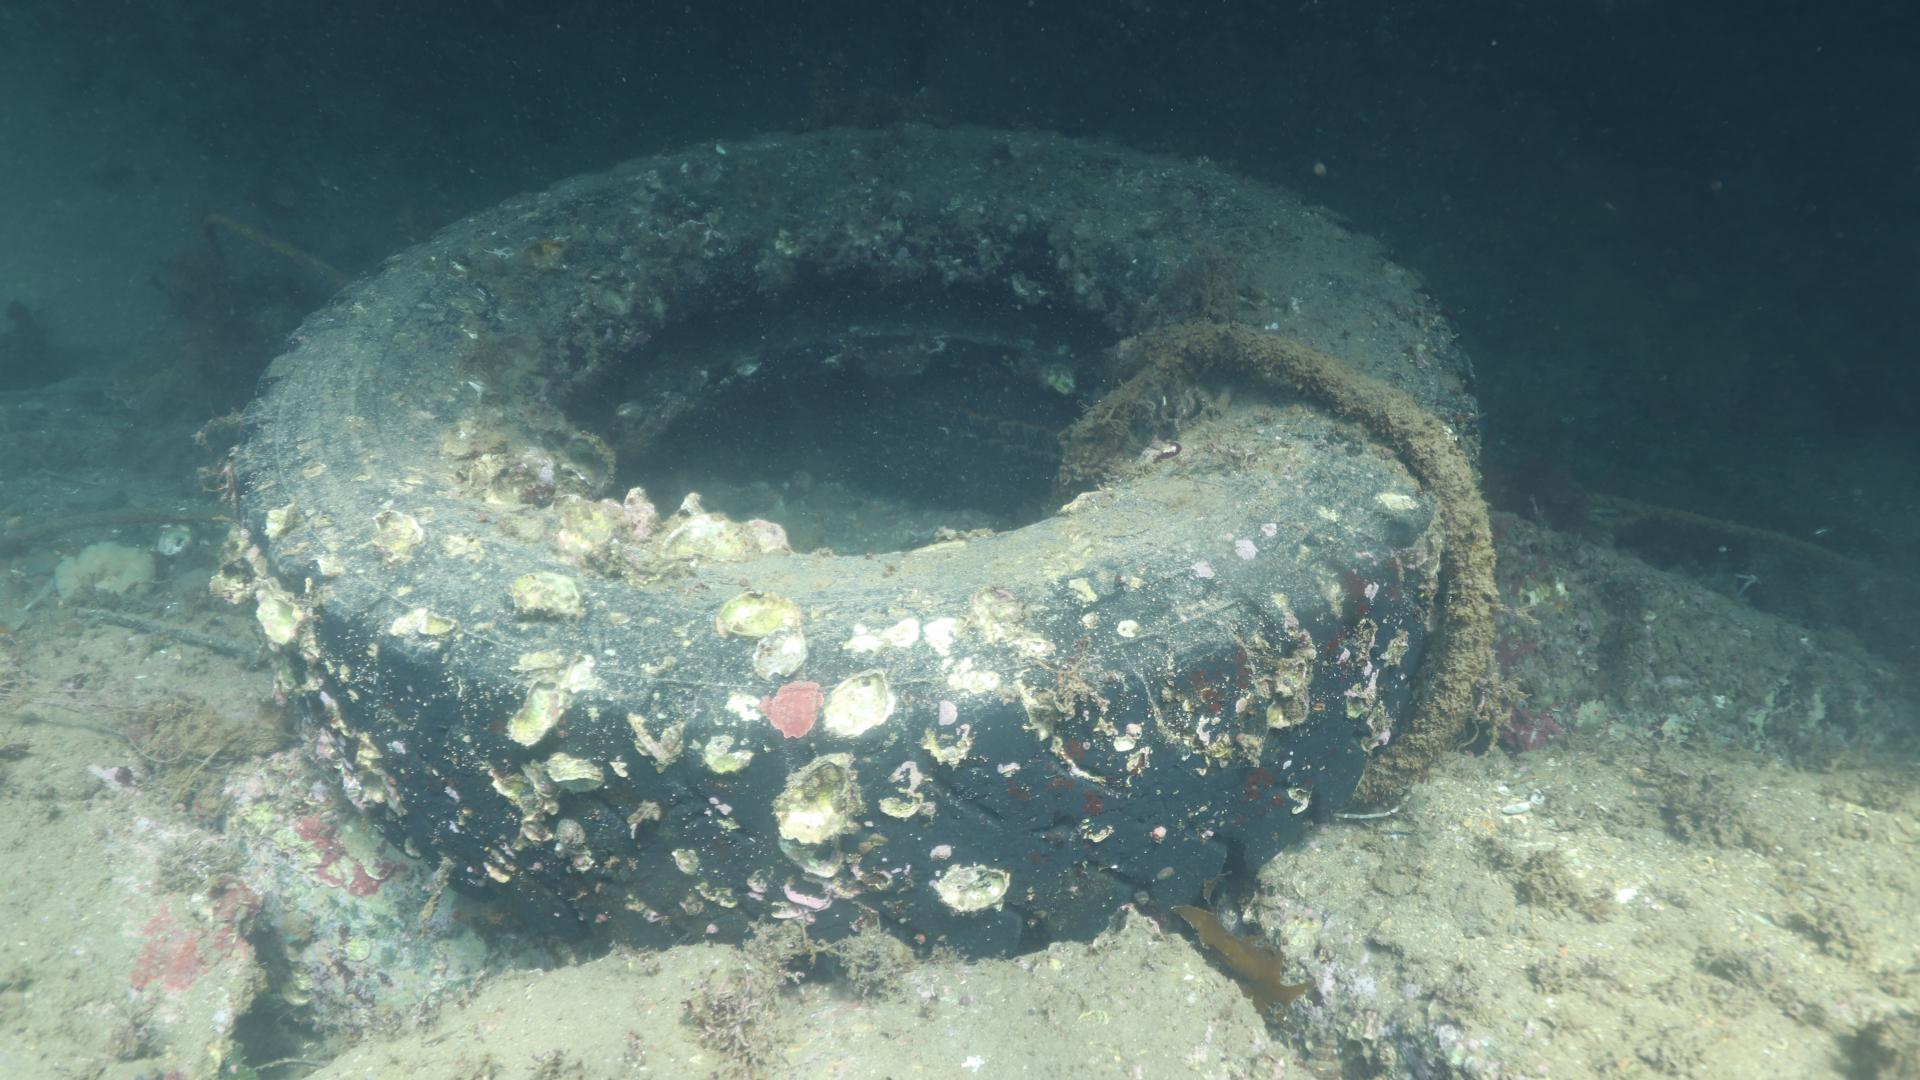rope: (1050, 316, 1509, 828)
tire: (218, 115, 1487, 975)
